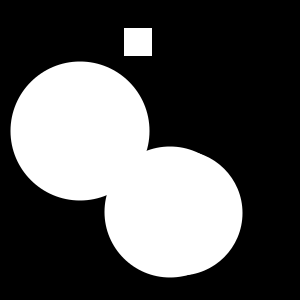circle: (124, 28, 152, 56)
rectangle: (11, 61, 150, 200), (104, 146, 235, 278), (117, 150, 242, 276)
